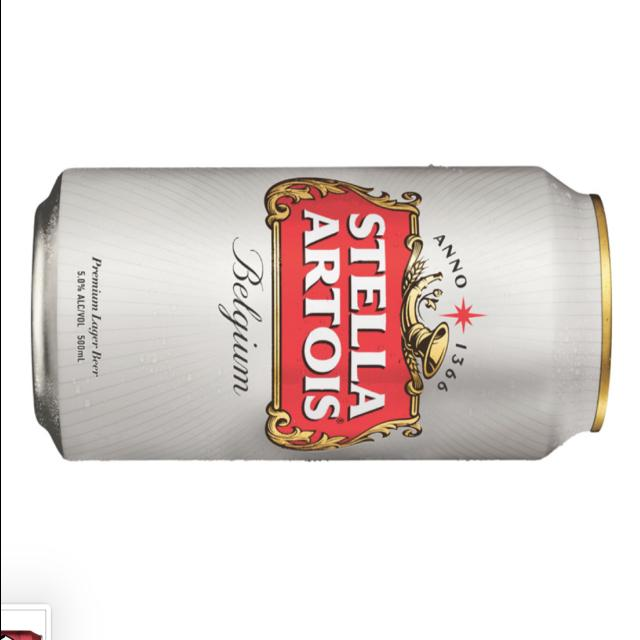can: (14, 120, 633, 492)
